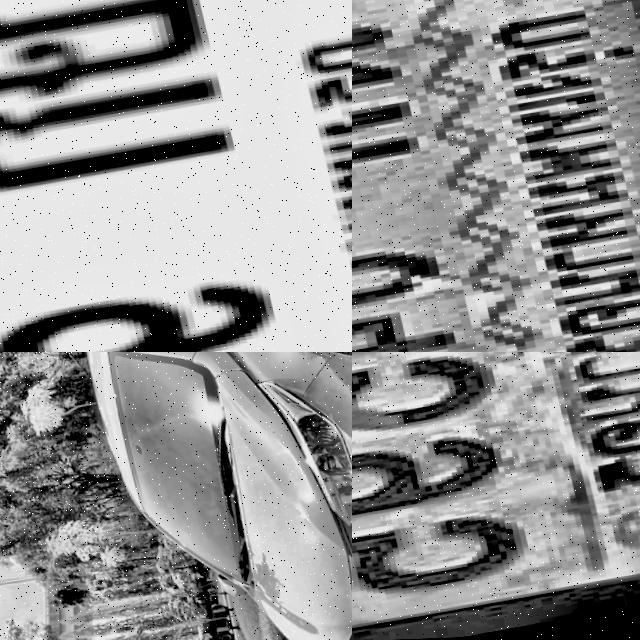license-plate: (0, 0, 352, 352), (352, 0, 640, 352), (352, 352, 640, 640)
